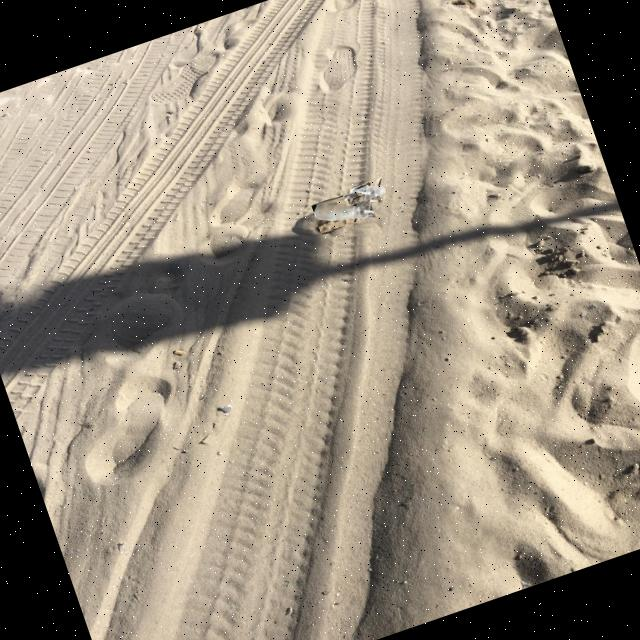Cigarette: (174, 350, 184, 355)
Disposable plastic cup: (314, 190, 370, 221)
Unlabeled litter: (343, 177, 381, 205)
